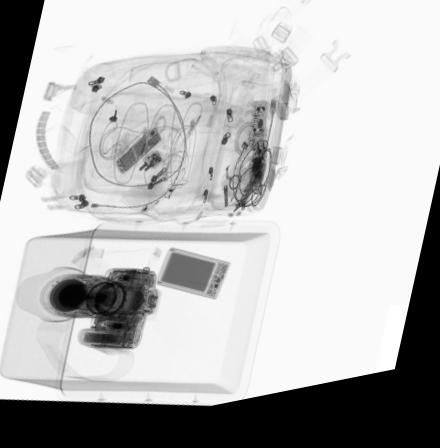Powerbank: (156, 252, 230, 309)
